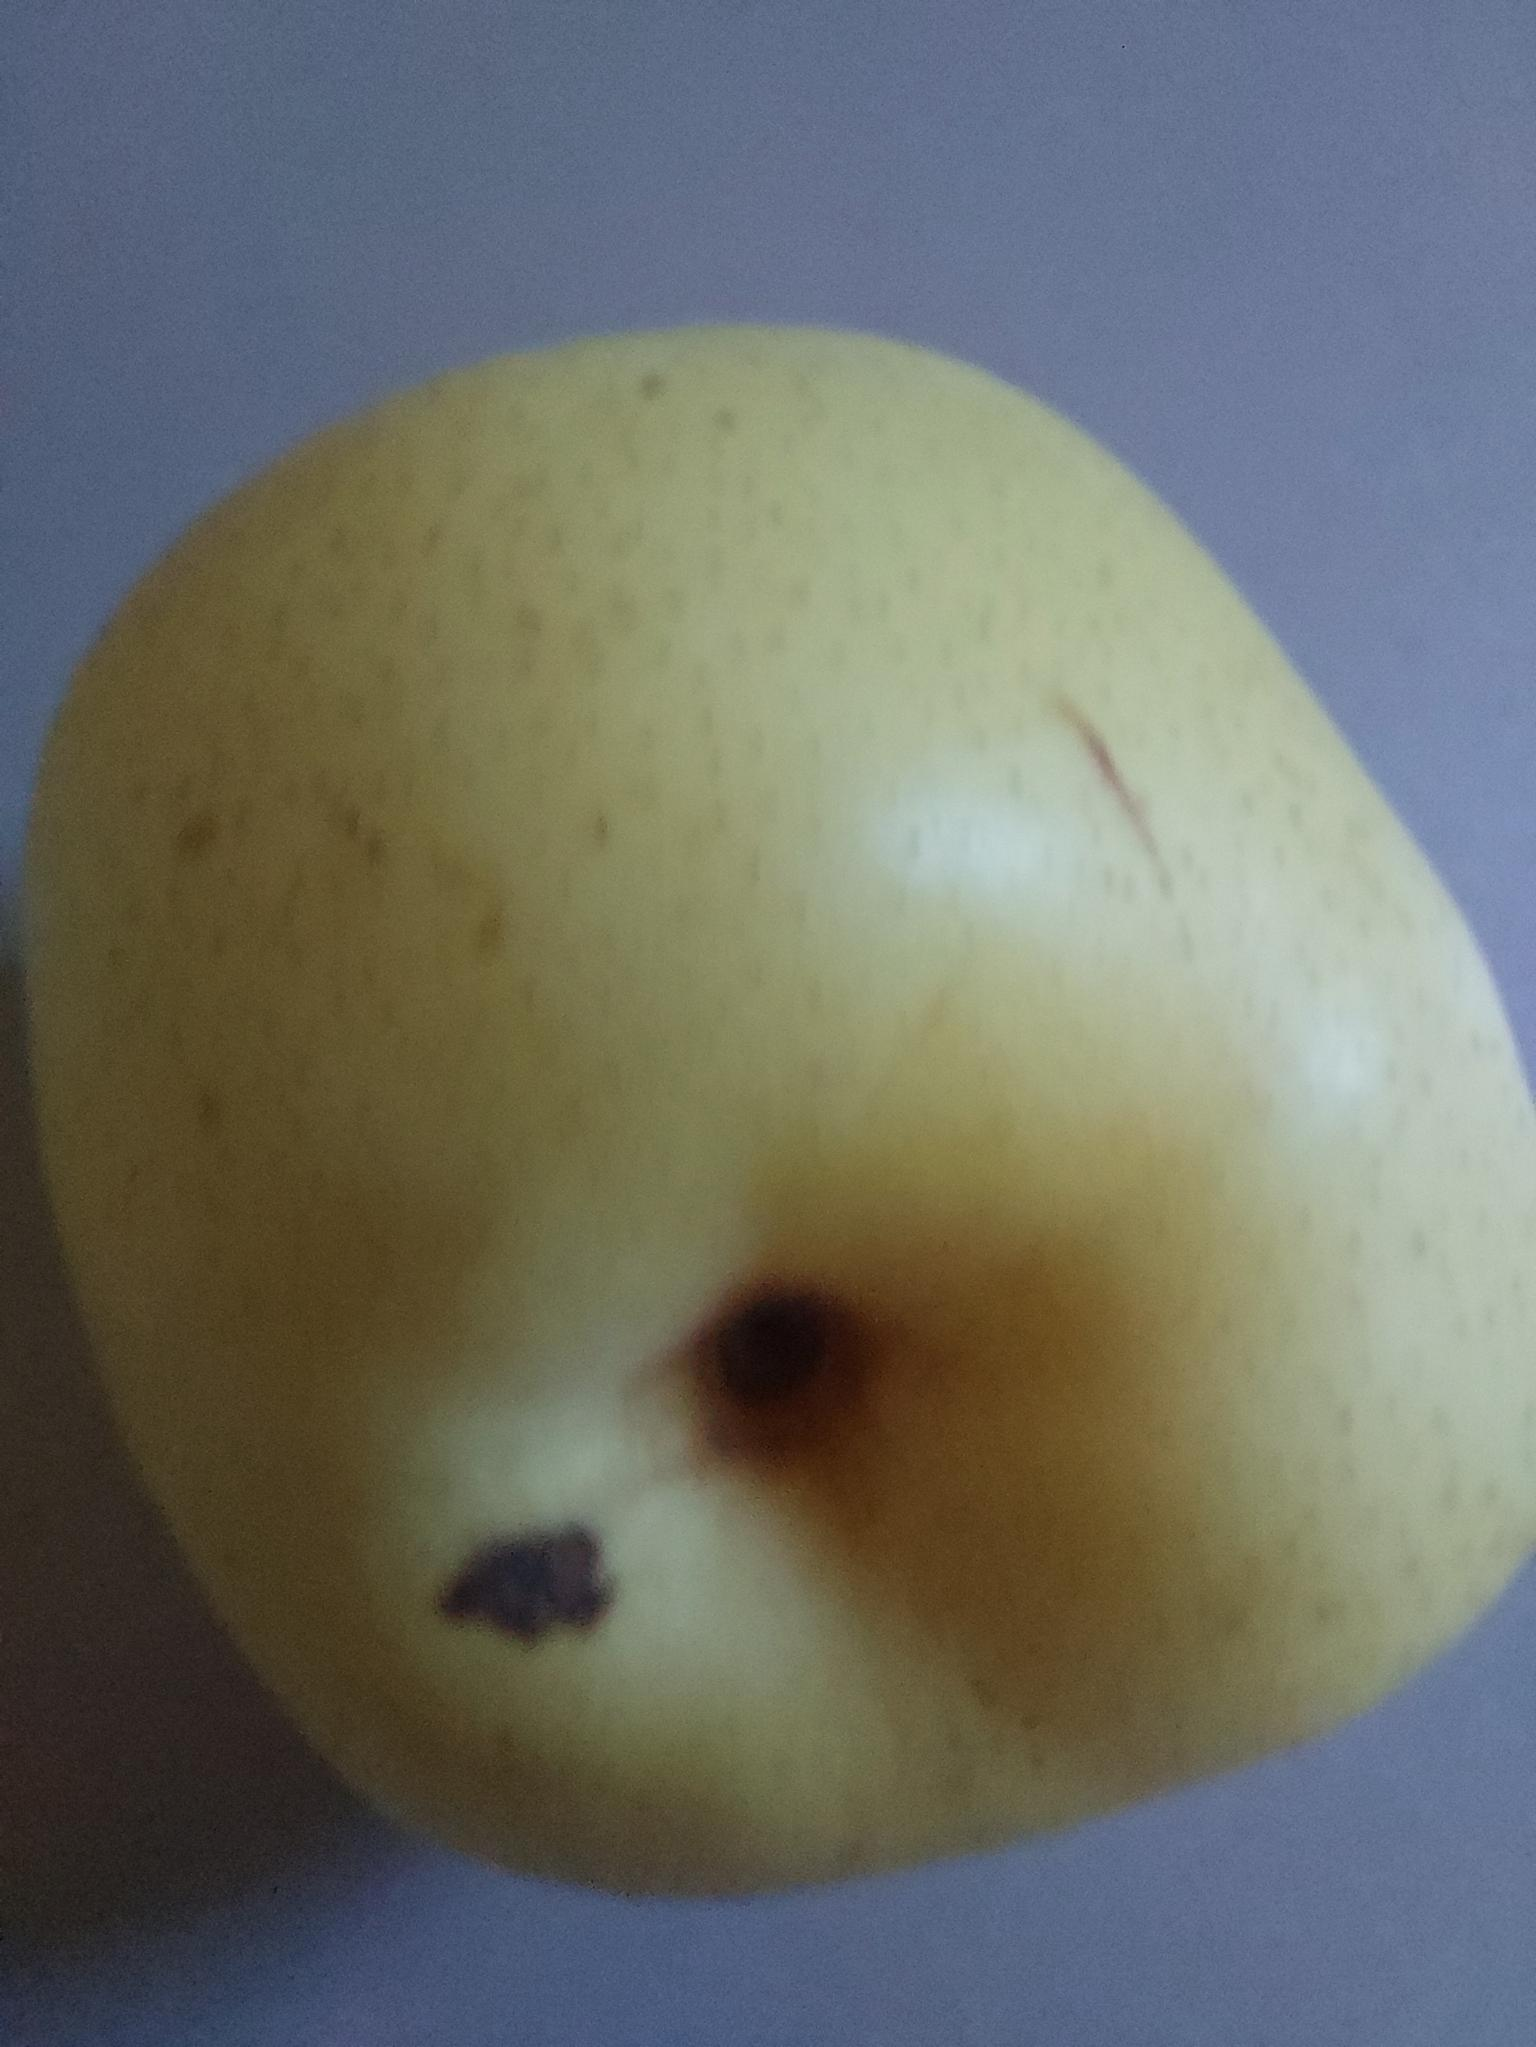Good Pear: (3, 306, 1536, 1903)
